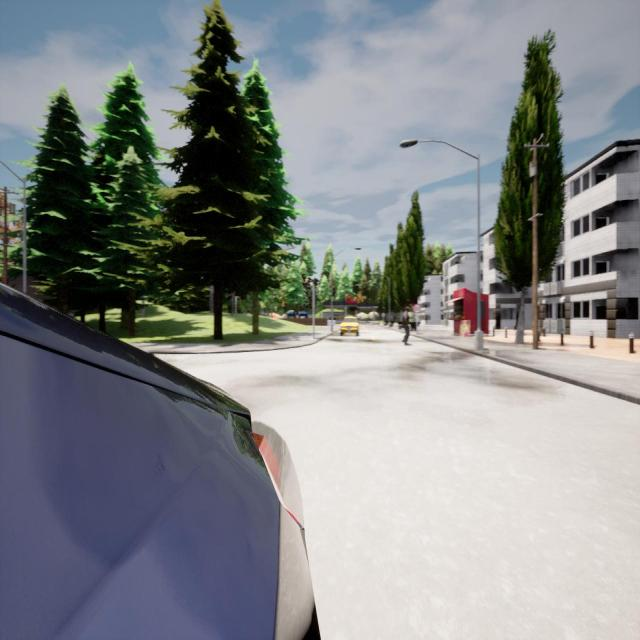Pedestrian: (402, 306, 410, 345)
Traffic_Signs: (412, 305, 420, 312), (382, 313, 386, 317)
Vehicle: (0, 287, 314, 638), (341, 316, 358, 336)
